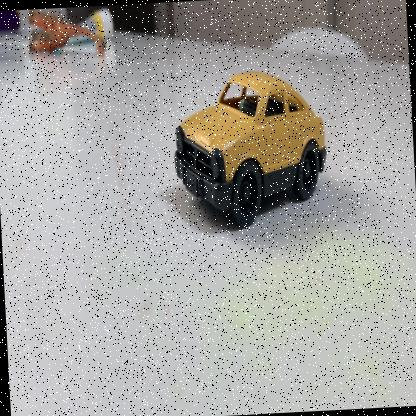yellow mini cooper: (168, 63, 332, 232)
